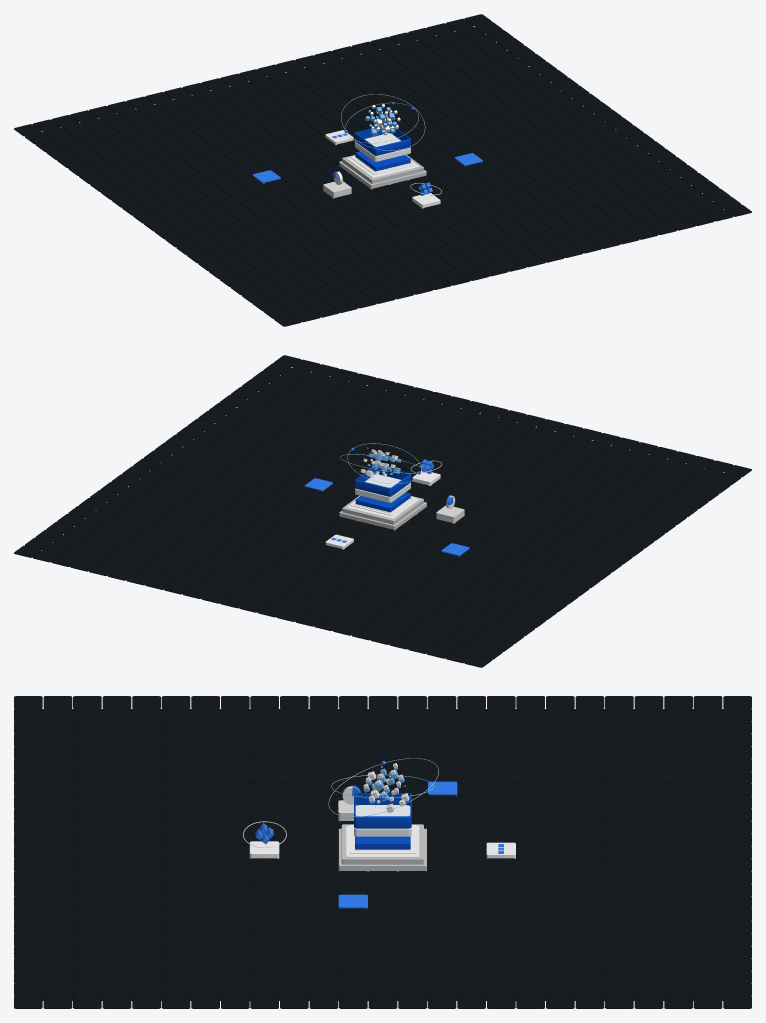
3 views of the same model, one above another, from view 1: azimuth 30°, elevation 25°; view 2: azimuth 150°, elevation 25°; view 3: azimuth 270°, elevation 25° (orthographic). The views are drawn at different scales.
Visible parts, largest first — view 1: Modern Technology Era, Rectangle 12, Boolean 3, Group 4, Rectangle 5, Rectangle 10, Rectangle 6; view 2: Modern Technology Era, Rectangle 12, Boolean 3, Rectangle 5, Group 4, Rectangle 10, Rectangle 6, Rectangle 11; view 3: Modern Technology Era, Rectangle 12, Boolean 3, Rectangle 5, Group 4, Rectangle 10, Rectangle 11, Rectangle 6, Rectangle 8, Rectangle 4.
Boxes of the visible parts, box(x1,y1,x2,y2) form: Modern Technology Era: box(14, 14, 751, 326); Rectangle 12: box(43, 31, 723, 314); Boolean 3: box(355, 127, 410, 155); Group 4: box(365, 103, 400, 136); Rectangle 5: box(355, 133, 410, 161); Rectangle 10: box(342, 154, 423, 183); Rectangle 6: box(355, 151, 410, 171); Modern Technology Era: box(14, 355, 751, 667); Rectangle 12: box(42, 372, 722, 655); Boolean 3: box(355, 465, 410, 496); Rectangle 5: box(355, 474, 410, 502); Group 4: box(360, 447, 401, 477); Rectangle 10: box(342, 495, 423, 524); Rectangle 6: box(355, 492, 410, 512); Rectangle 11: box(339, 502, 426, 530); Modern Technology Era: box(14, 696, 751, 1008); Rectangle 12: box(42, 709, 723, 1000); Boolean 3: box(354, 793, 411, 828); Rectangle 5: box(354, 805, 411, 836); Group 4: box(363, 763, 409, 812); Rectangle 10: box(341, 824, 423, 864); Rectangle 11: box(338, 828, 426, 871); Rectangle 6: box(355, 836, 410, 849); Rectangle 8: box(346, 825, 419, 857); Rectangle 4: box(249, 841, 279, 858).
Bounding box in the file's own units: 61.49 × 8.71 × 61.49.
